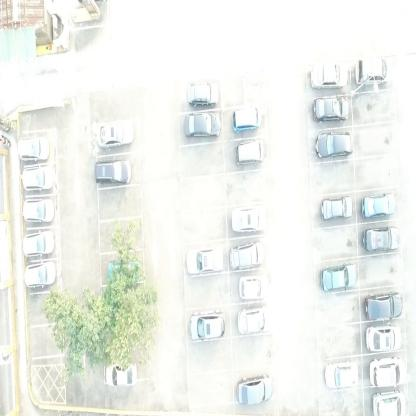car: (364, 289, 404, 321), (369, 354, 405, 388), (229, 238, 265, 272), (237, 374, 274, 405), (320, 261, 358, 291), (354, 55, 392, 85), (183, 110, 221, 140), (190, 310, 226, 341), (316, 131, 354, 160), (94, 157, 132, 186), (187, 245, 223, 275), (311, 61, 348, 90), (97, 119, 134, 148), (312, 96, 350, 124), (23, 258, 57, 289), (365, 324, 403, 351), (231, 204, 266, 233), (362, 226, 401, 252), (237, 305, 271, 334), (16, 135, 50, 163), (371, 389, 407, 415), (22, 228, 53, 258), (234, 137, 266, 166), (324, 362, 359, 388), (361, 192, 396, 218), (186, 80, 218, 108), (108, 258, 140, 286), (320, 194, 353, 221), (21, 164, 54, 191), (232, 104, 261, 134), (105, 359, 137, 386), (22, 198, 56, 223), (239, 274, 271, 300)
